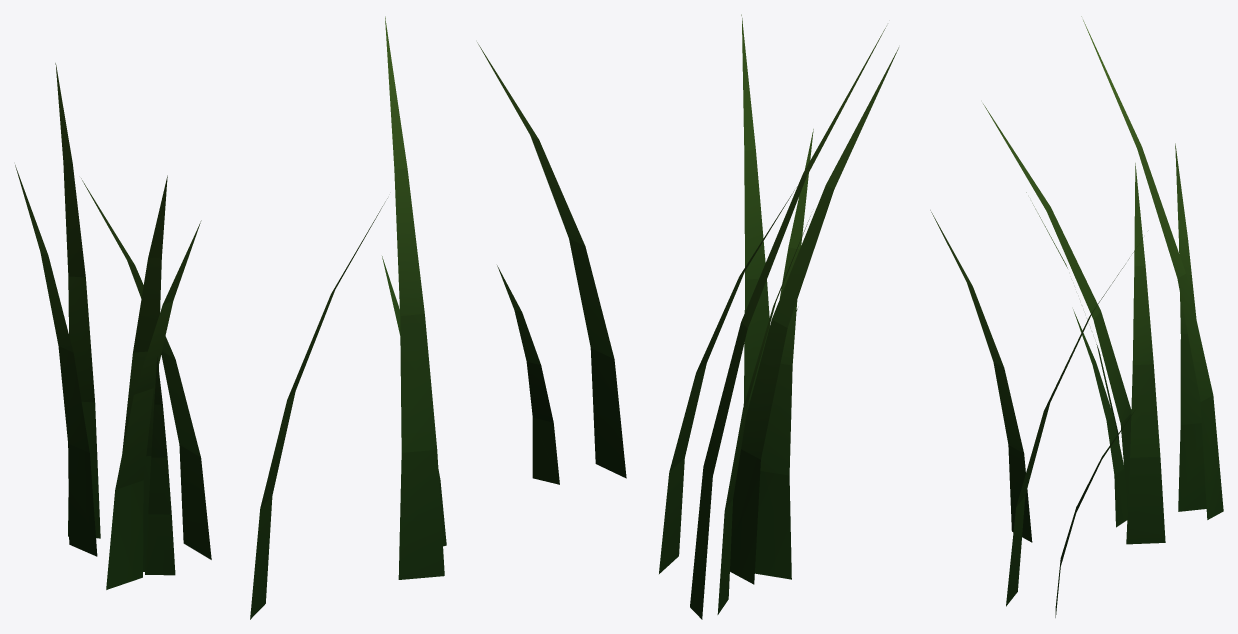
The model's file is Grass.glb.
3 renders of one model, left to right at view 1: azimuth 30°, elevation 25°; view 2: azimuth 150°, elevation 25°; view 3: azimuth 270°, elevation 25°, orthographic. The views are drawn at different scales.
Parts seen in each view (by area): view 1: Blades; view 2: Blades; view 3: Blades.
Part boxes in pixels (left/top/right/bottom): Blades: left=15, top=16, right=446, bottom=619; Blades: left=477, top=14, right=898, bottom=619; Blades: left=930, top=16, right=1223, bottom=617.
Size of the model in its own units: 0.1156 by 0.1662 by 0.0969.
